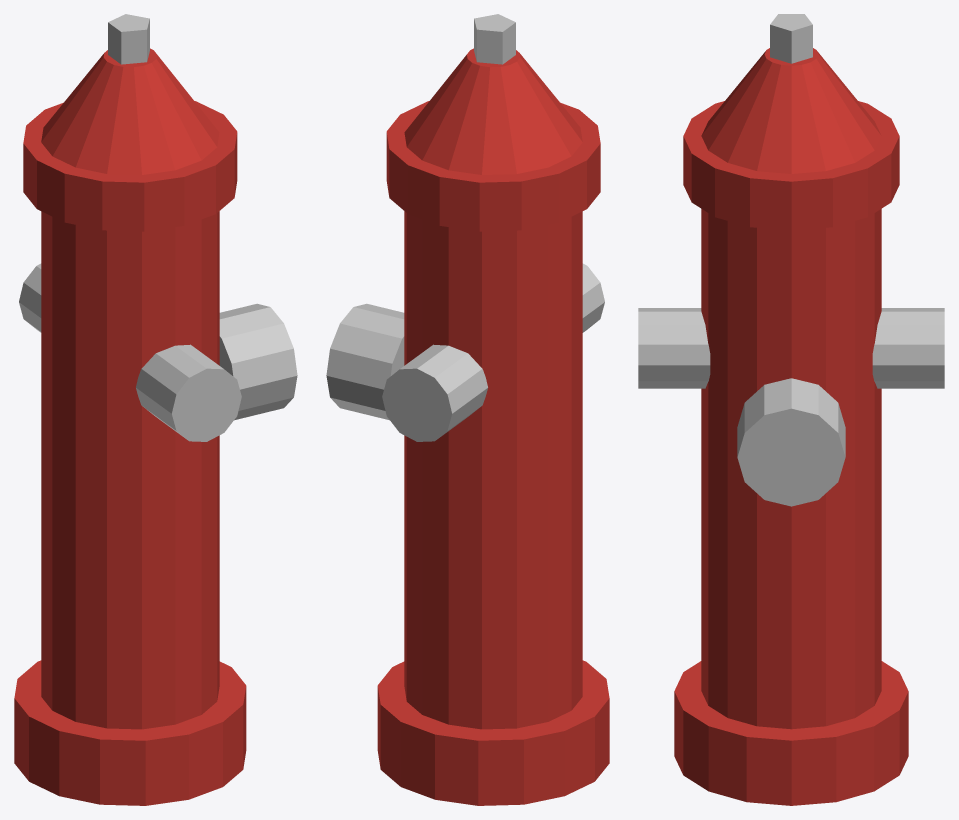
File: SM_Hydrant.fbx
3 views of the same model, side by side, from view 1: azimuth 30°, elevation 25°; view 2: azimuth 150°, elevation 25°; view 3: azimuth 270°, elevation 25° (orthographic).
Parts seen in each view (by area): view 1: SM_Hydrant; view 2: SM_Hydrant; view 3: SM_Hydrant.
Boxes of the visible parts, x1=… form: SM_Hydrant: x1=14, y1=14, x2=297, y2=805; SM_Hydrant: x1=326, y1=14, x2=609, y2=805; SM_Hydrant: x1=638, y1=14, x2=944, y2=805.
Size of the model in its own units: 0.34 by 0.31 by 0.9.
